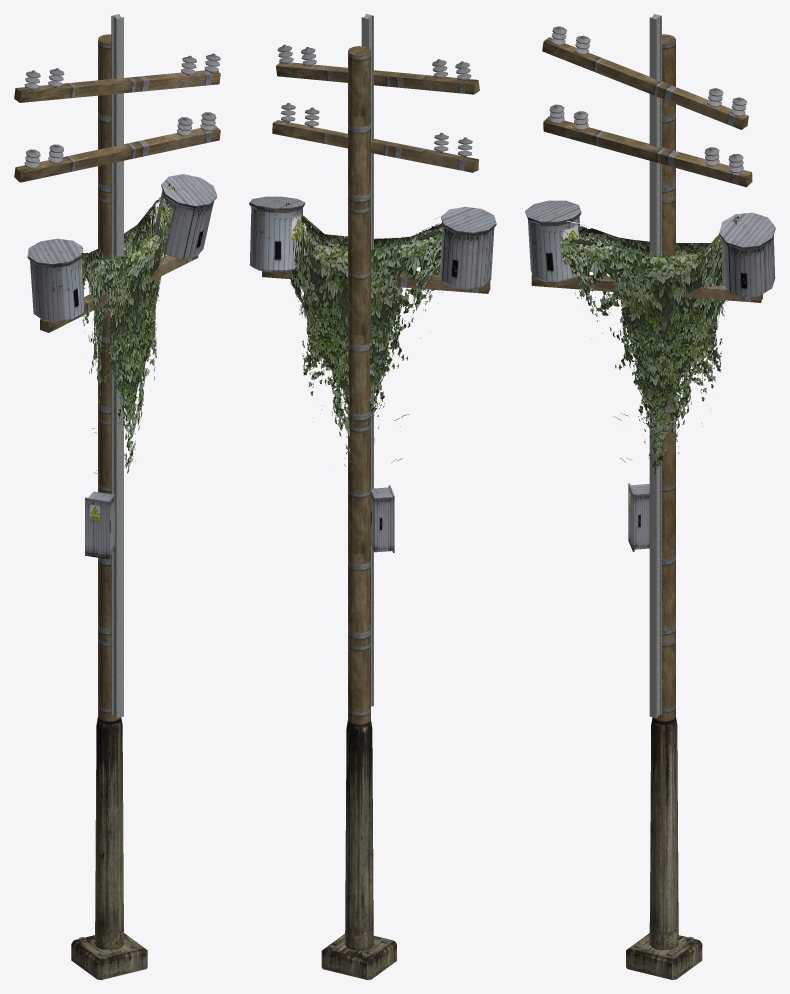
The model's file is CIV_Powerpole_002.fbx.
3 views of the same model, side by side, from view 1: azimuth 30°, elevation 25°; view 2: azimuth 150°, elevation 25°; view 3: azimuth 330°, elevation 25° (orthographic).
Parts seen in each view (by area): view 1: CIV_Powerpole_002; view 2: CIV_Powerpole_002; view 3: CIV_Powerpole_002.
Part boxes in pixels (x1=…): CIV_Powerpole_002: x1=14, y1=14, x2=220, y2=979; CIV_Powerpole_002: x1=249, y1=14, x2=496, y2=979; CIV_Powerpole_002: x1=525, y1=14, x2=775, y2=979.
Size of the model in its own units: 169 by 723 by 88.51.
